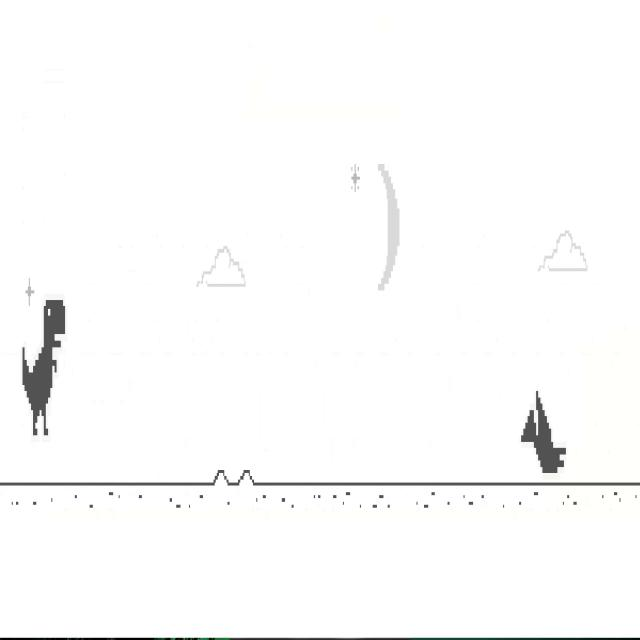dino: (21, 296, 67, 438)
ptero: (520, 387, 568, 474)
